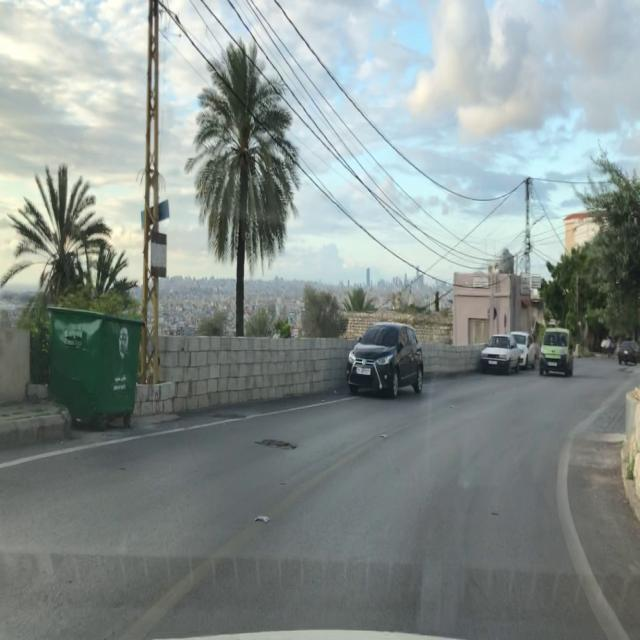Pothole: (253, 436, 298, 454)
